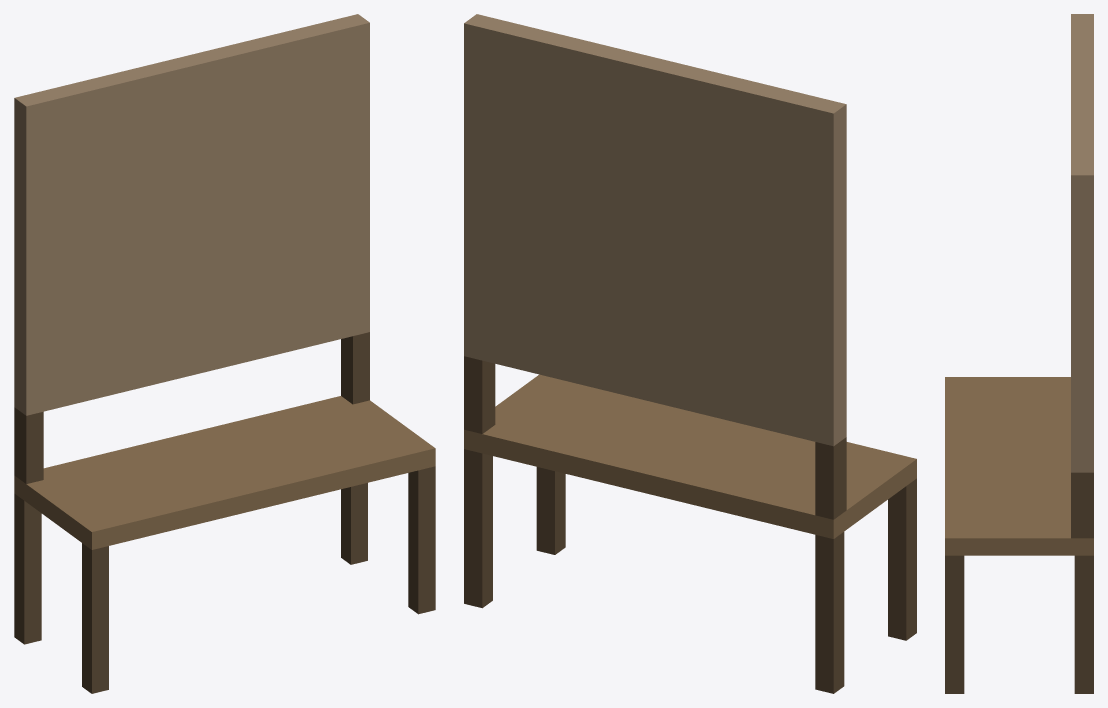
File: picnic_bench_table.glb
3 views of the same model, side by side, from view 1: azimuth 30°, elevation 25°; view 2: azimuth 150°, elevation 25°; view 3: azimuth 270°, elevation 25° (orthographic). The views are drawn at different scales.
Parts seen in each view (by area): view 1: picnic_bench_table_Top, picnic_bench_table_Body; view 2: picnic_bench_table_Top, picnic_bench_table_Body; view 3: picnic_bench_table_Body, picnic_bench_table_Top.
Part boxes in pixels (box(x1,y1,x2,y2)): picnic_bench_table_Top: box(14, 14, 369, 415); picnic_bench_table_Body: box(14, 332, 435, 693); picnic_bench_table_Top: box(464, 14, 846, 446); picnic_bench_table_Body: box(464, 356, 916, 693); picnic_bench_table_Body: box(945, 377, 1093, 693); picnic_bench_table_Top: box(1071, 14, 1093, 472).
Bounding box in the file's own units: 1 × 1.5 × 0.39.
